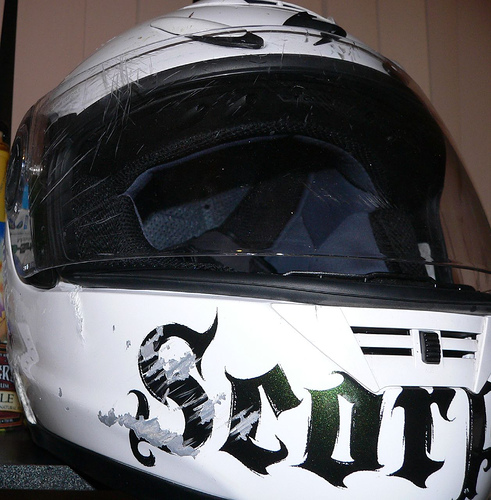helmet: (15, 10, 486, 489)
